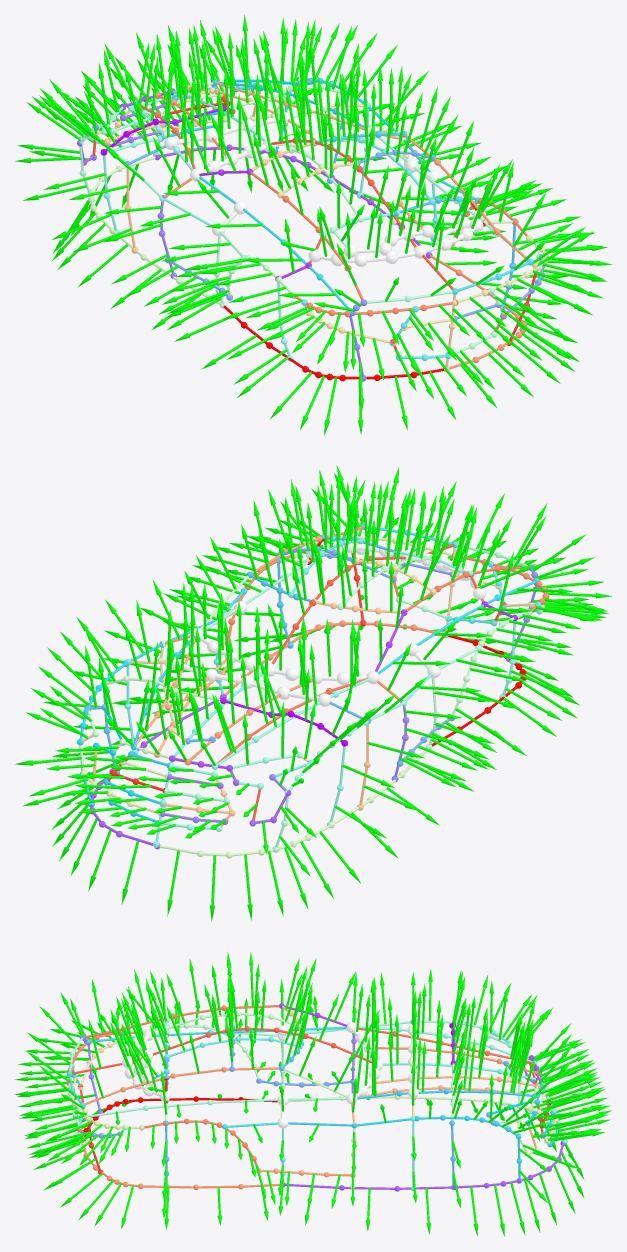
The model's file is ils_car5.gltf.
3 renders of one model, top to bottom at view 1: azimuth 30°, elevation 25°; view 2: azimuth 150°, elevation 25°; view 3: azimuth 270°, elevation 25°, orthographic. The views are drawn at different scales.
Bounding box in the file's own units: 0.6143 × 0.42 × 1.06.
